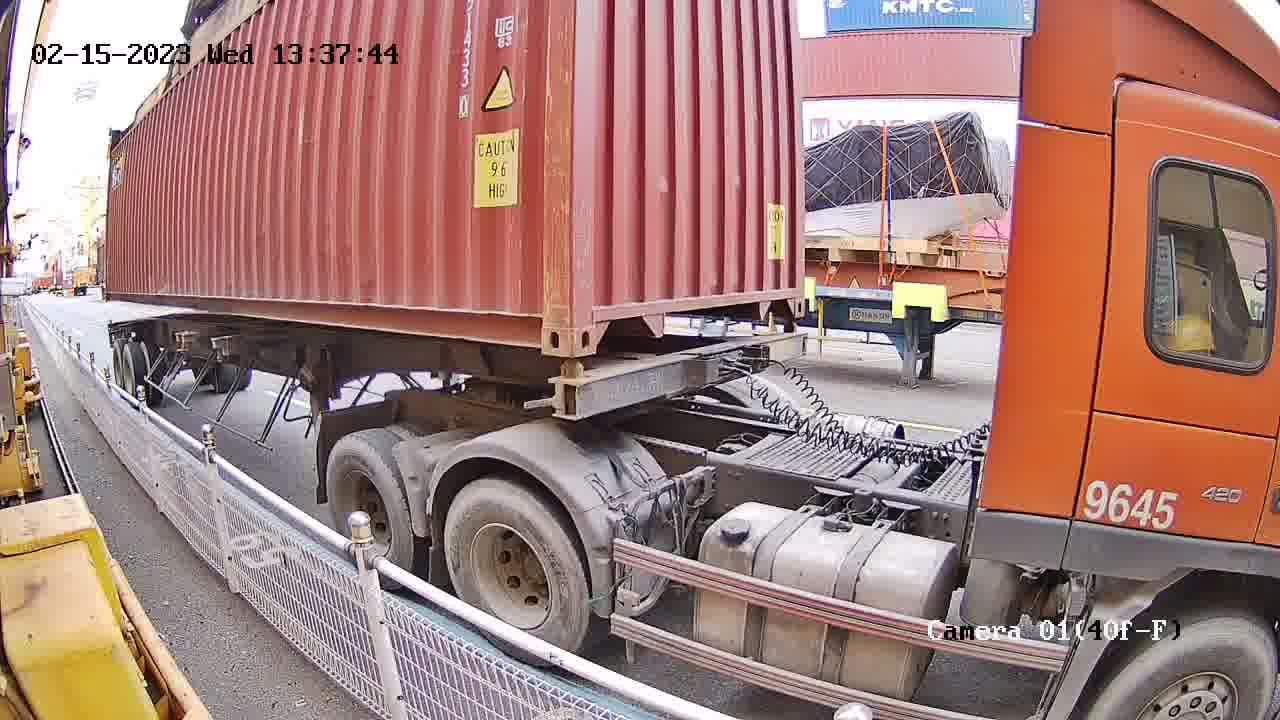Chassis: (577, 331, 807, 419)
Cone: (545, 360, 586, 418)
Hole_L: (571, 287, 627, 360)
Hole_R: (514, 288, 573, 358), (767, 263, 805, 317)
Tire: (442, 480, 588, 655), (1087, 617, 1276, 719), (326, 438, 413, 569)
